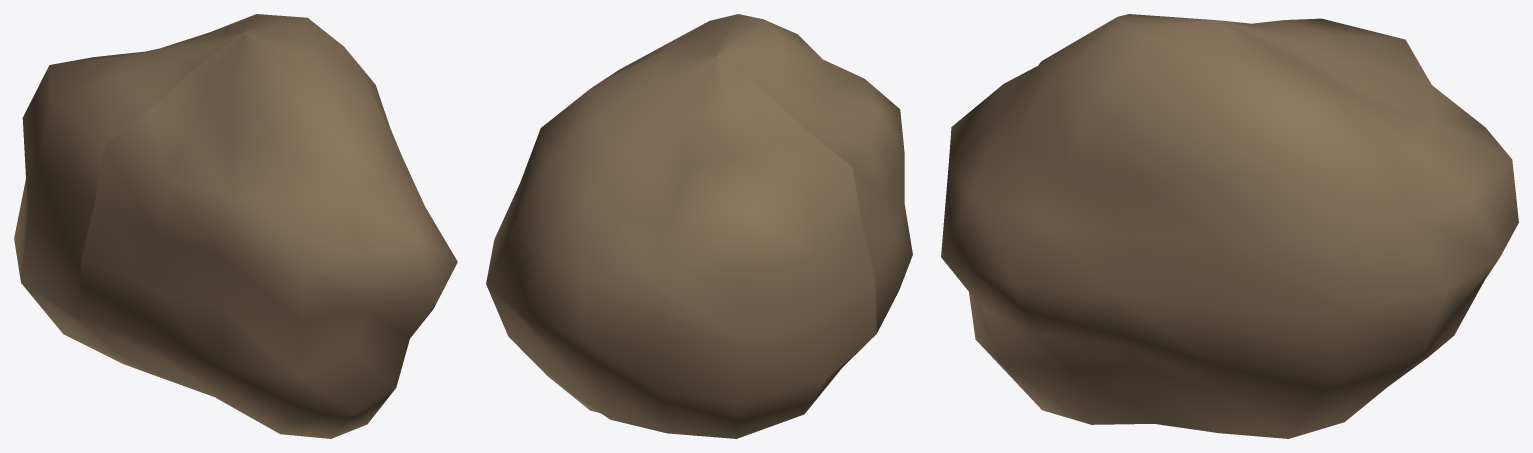
Rendered from DesertRock3.glb.
3 views of the same model, side by side, from view 1: azimuth 30°, elevation 25°; view 2: azimuth 150°, elevation 25°; view 3: azimuth 270°, elevation 25° (orthographic). The views are drawn at different scales.
Bounding box in the file's own units: 0.6632 × 0.6528 × 0.9148.
